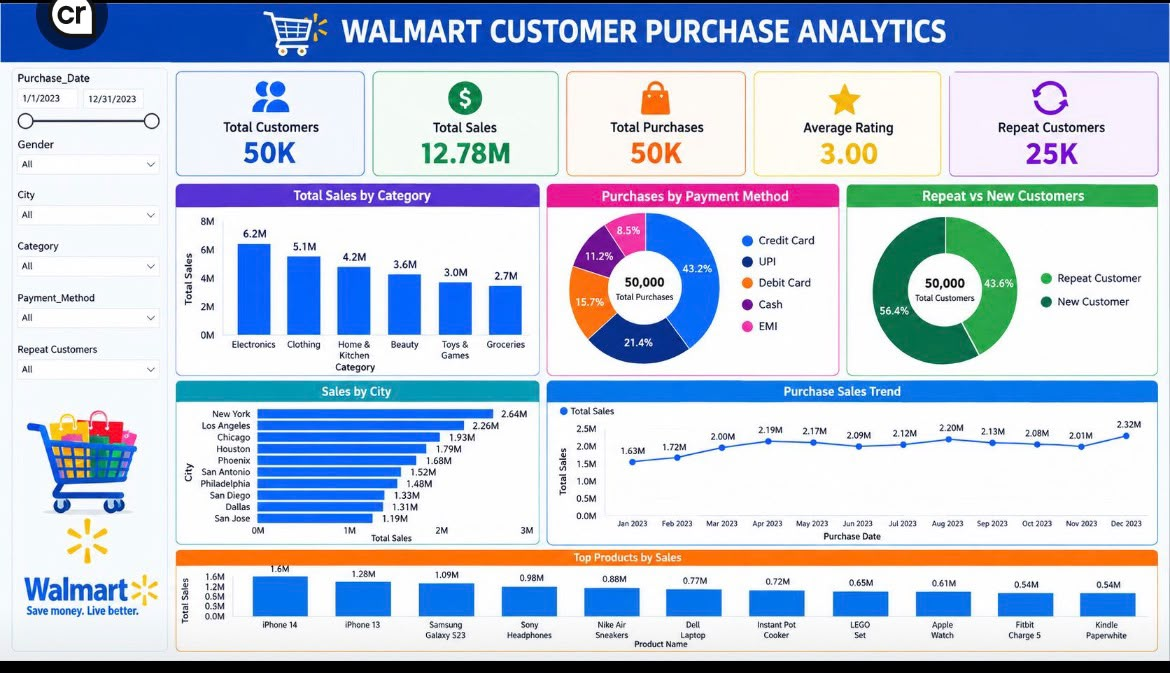

The dashboard page shown, as its layout file describes it:
{"tool":"powerbi","page":{"name":"Page 1","canvas":[1920,1080],"ordinal":0},"visuals":[{"type":"textbox","box":[0,0,1920.1,105],"z":0},{"type":"slicer","title":"Purchase Date","fields":{"Values":["Walmart_customer_purchases.Purchase_Date"]},"box":[2.1,121.4,278.7,150.2],"z":1000},{"type":"slicer","title":"Gender","fields":{"Values":["Walmart_customer_purchases.Gender"]},"box":[2.1,271.7,278.7,79.6],"z":2000},{"type":"slicer","title":"city","fields":{"Values":["Walmart_customer_purchases.City"]},"box":[1.8,351.1,278.7,79.6],"z":3000},{"type":"slicer","title":"Category","fields":{"Values":["Walmart_customer_purchases.Category"]},"box":[1.8,447,278.7,76],"z":4000},{"type":"slicer","title":"payment method","fields":{"Values":["Walmart_customer_purchases.Payment_Method"]},"box":[1.8,539.3,278.7,81.4],"z":5000},{"type":"slicer","title":"payment method","fields":{"Values":["Walmart_customer_purchases.Repeat Customers"]},"box":[1.8,640.6,278.7,81.4],"z":6000},{"type":"cardVisual","fields":{"Data":["Walmart_customer_purchases.Total Customers"]},"box":[305.8,152,278.7,161.1],"z":7000},{"type":"cardVisual","fields":{"Data":["Walmart_customer_purchases.Total Sales"]},"box":[636,148.2,278.7,166.5],"z":8000},{"type":"cardVisual","fields":{"Data":["Walmart_customer_purchases.Total Purchases"]},"box":[960.9,150.2,278.7,164.7],"z":9000},{"type":"cardVisual","fields":{"Data":["Walmart_customer_purchases.Average Rating"]},"box":[1294.7,148.2,278.7,164.7],"z":10000},{"type":"cardVisual","fields":{"Data":["Sum(Walmart_customer_purchases.Repeat Customers)"]},"box":[1605.5,148.2,278.7,162.9],"z":11000},{"type":"columnChart","fields":{"Category":["Walmart_customer_purchases.Category"],"Y":["Walmart_customer_purchases.Total Sales"]},"box":[306.7,335.5,399.3,347.9],"z":12000},{"type":"donutChart","fields":{"Category":["Walmart_customer_purchases.Payment_Method"],"Y":["Walmart_customer_purchases.Total Purchases"]},"box":[706,333.4,454.9,349.9],"z":13000},{"type":"donutChart","fields":{"Category":["Walmart_customer_purchases.Repeat Customers"],"Y":["Walmart_customer_purchases.Total Customers"]},"box":[1160,333,372.8,351.1],"z":14000},{"type":"clusteredBarChart","fields":{"Category":["Walmart_customer_purchases.City"],"Y":["Walmart_customer_purchases.Total Sales"]},"box":[1532.8,333,387.3,349.3],"z":15000},{"type":"lineChart","fields":{"Category":["Walmart_customer_purchases.Purchase_Date.Variation.Date Hierarchy.Year","Walmart_customer_purchases.Purchase_Date.Variation.Date Hierarchy.Month"],"Y":["Walmart_customer_purchases.Total Sales"]},"box":[305.8,684.1,608,383.6],"z":16000},{"type":"clusteredColumnChart","fields":{"Category":["Walmart_customer_purchases.Product_Name"],"Y":["Walmart_customer_purchases.Total Sales"]},"box":[916,683.4,1004.5,397.3],"z":17000},{"type":"image","box":[374.6,159.3,141.2,70.6],"z":18000},{"type":"image","box":[736.5,148.4,77.8,90.5],"z":19000},{"type":"image","box":[1064.1,137.5,67,114],"z":20000},{"type":"image","box":[1397.1,152,72.4,85.1],"z":21000},{"type":"image","box":[1704.7,146.6,76,86.9],"z":22000},{"type":"image","box":[0,702.1,304,378.2],"z":23000},{"type":"image","box":[401.7,0,150.2,105],"z":24000}]}

Visuals, with their boxes in screenshot pixels (x1, y1, x2, y2), scaled from the page's 1920x1080 canvas onto the 1170x673 screenshot:
textbox: {"left": 0, "top": 0, "right": 1169, "bottom": 65}
"Purchase Date" slicer: {"left": 1, "top": 76, "right": 171, "bottom": 169}
"Gender" slicer: {"left": 1, "top": 169, "right": 171, "bottom": 219}
"city" slicer: {"left": 1, "top": 219, "right": 171, "bottom": 268}
"Category" slicer: {"left": 1, "top": 279, "right": 171, "bottom": 326}
"payment method" slicer: {"left": 1, "top": 336, "right": 171, "bottom": 387}
"payment method" slicer: {"left": 1, "top": 399, "right": 171, "bottom": 450}
cardVisual - Walmart_customer_purchases.Total Customers: {"left": 186, "top": 95, "right": 356, "bottom": 195}
cardVisual - Walmart_customer_purchases.Total Sales: {"left": 388, "top": 92, "right": 557, "bottom": 196}
cardVisual - Walmart_customer_purchases.Total Purchases: {"left": 586, "top": 94, "right": 755, "bottom": 196}
cardVisual - Walmart_customer_purchases.Average Rating: {"left": 789, "top": 92, "right": 959, "bottom": 195}
cardVisual - Sum(Walmart_customer_purchases.Repeat Customers): {"left": 978, "top": 92, "right": 1148, "bottom": 194}
columnChart - Walmart_customer_purchases.Category x Walmart_customer_purchases.Total Sales: {"left": 187, "top": 209, "right": 430, "bottom": 426}
donutChart - Walmart_customer_purchases.Payment_Method x Walmart_customer_purchases.Total Purchases: {"left": 430, "top": 208, "right": 707, "bottom": 426}
donutChart - Walmart_customer_purchases.Repeat Customers x Walmart_customer_purchases.Total Customers: {"left": 707, "top": 208, "right": 934, "bottom": 426}
clusteredBarChart - Walmart_customer_purchases.City x Walmart_customer_purchases.Total Sales: {"left": 934, "top": 208, "right": 1169, "bottom": 425}
lineChart - Walmart_customer_purchases.Purchase_Date.Variation.Date Hierarchy.Year x Walmart_customer_purchases.Purchase_Date.Variation.Date Hierarchy.Month: {"left": 186, "top": 426, "right": 557, "bottom": 665}
clusteredColumnChart - Walmart_customer_purchases.Product_Name x Walmart_customer_purchases.Total Sales: {"left": 558, "top": 426, "right": 1169, "bottom": 672}
image: {"left": 228, "top": 99, "right": 314, "bottom": 143}
image: {"left": 449, "top": 92, "right": 496, "bottom": 149}
image: {"left": 648, "top": 86, "right": 689, "bottom": 157}
image: {"left": 851, "top": 95, "right": 895, "bottom": 148}
image: {"left": 1039, "top": 91, "right": 1085, "bottom": 146}
image: {"left": 0, "top": 438, "right": 185, "bottom": 672}
image: {"left": 245, "top": 0, "right": 336, "bottom": 65}
